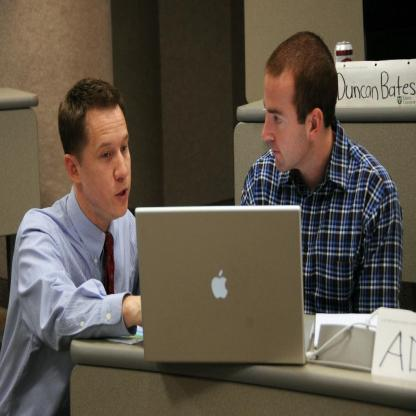board: (137, 198, 305, 384)
